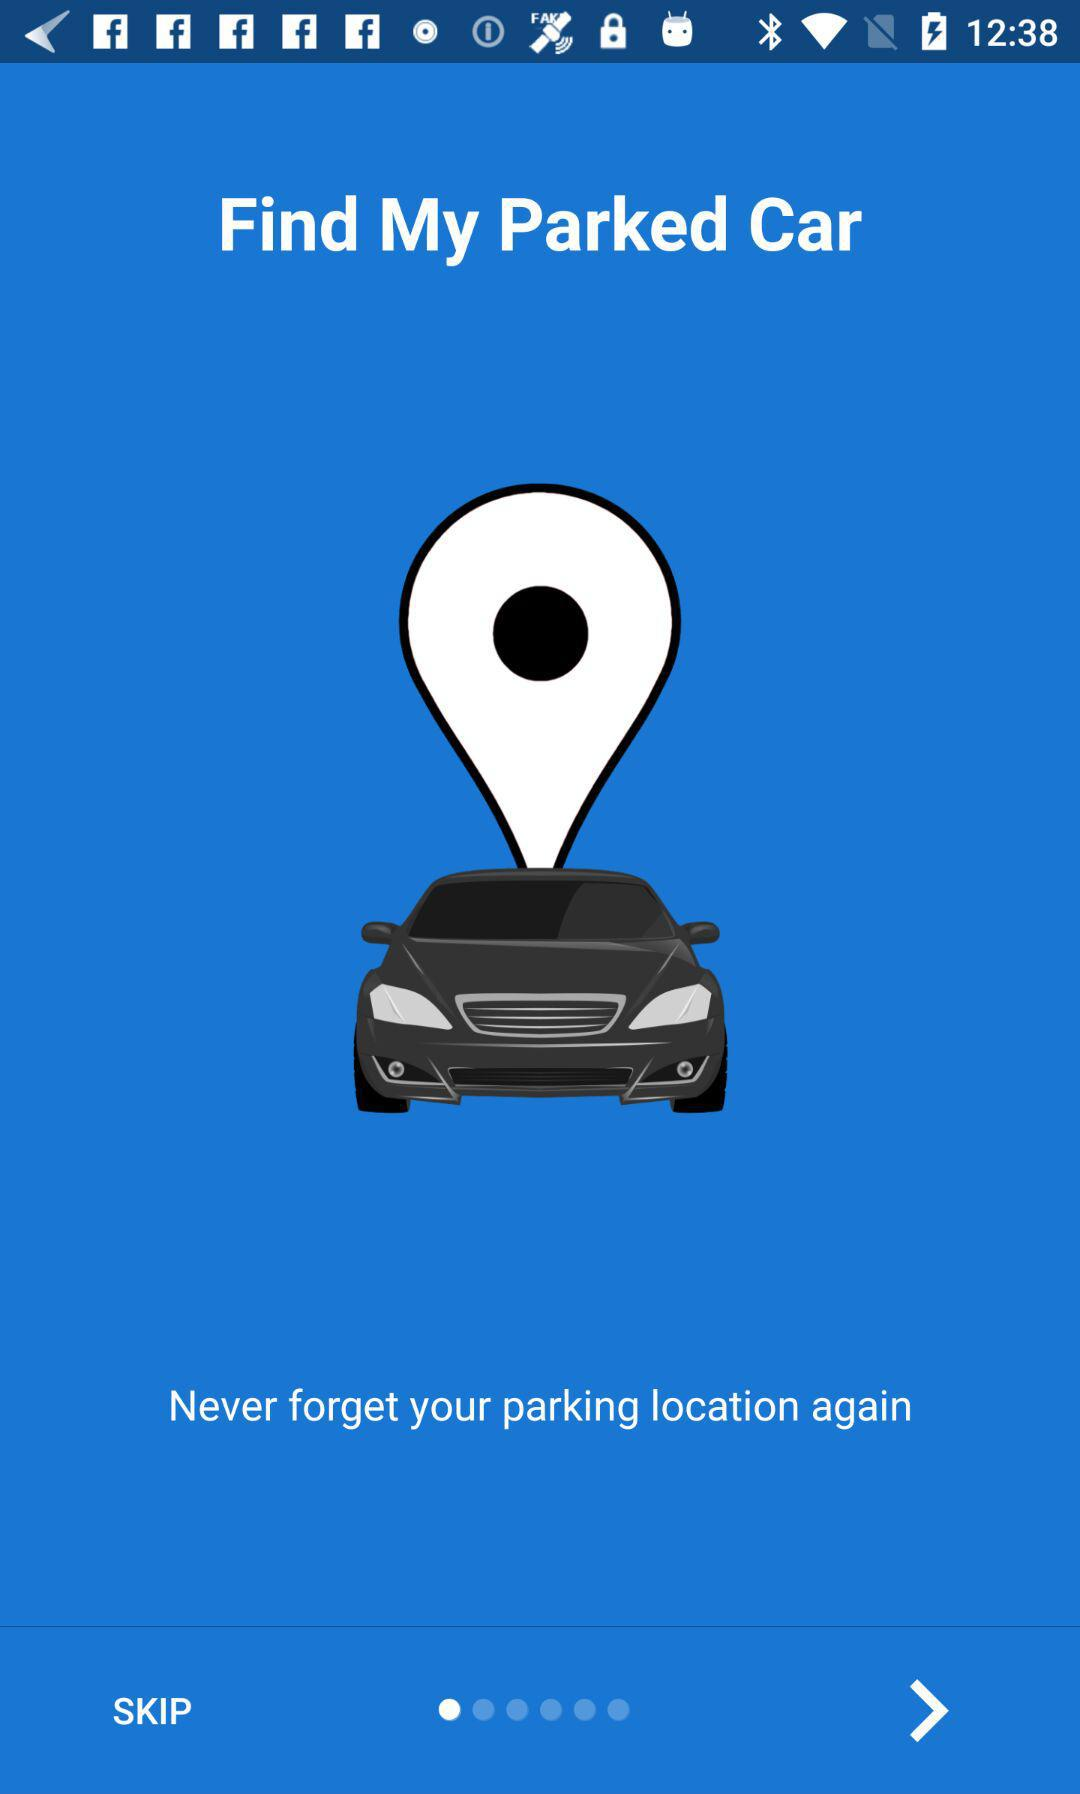Icon: (910, 1677, 951, 1743)
Image: (354, 483, 730, 1115)
PageIndicator: (437, 1697, 632, 1724)
Text: (222, 193, 863, 268), (170, 1387, 913, 1434), (113, 1697, 193, 1726)
UpperTaskBar: (1, 1, 1080, 64)
